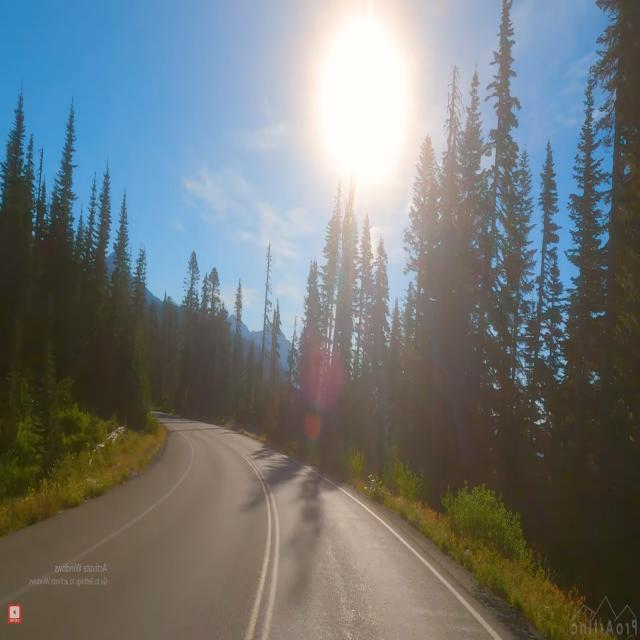sun: (284, 0, 446, 213)
